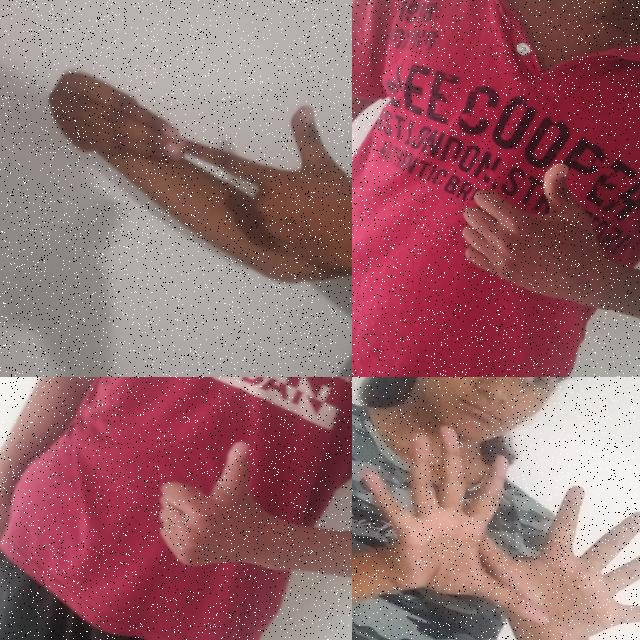Five Fathers: (14, 0, 352, 319)
Moutza: (352, 387, 616, 640), (434, 441, 640, 640)
Thumbs Up: (432, 126, 640, 340), (128, 410, 310, 600)
